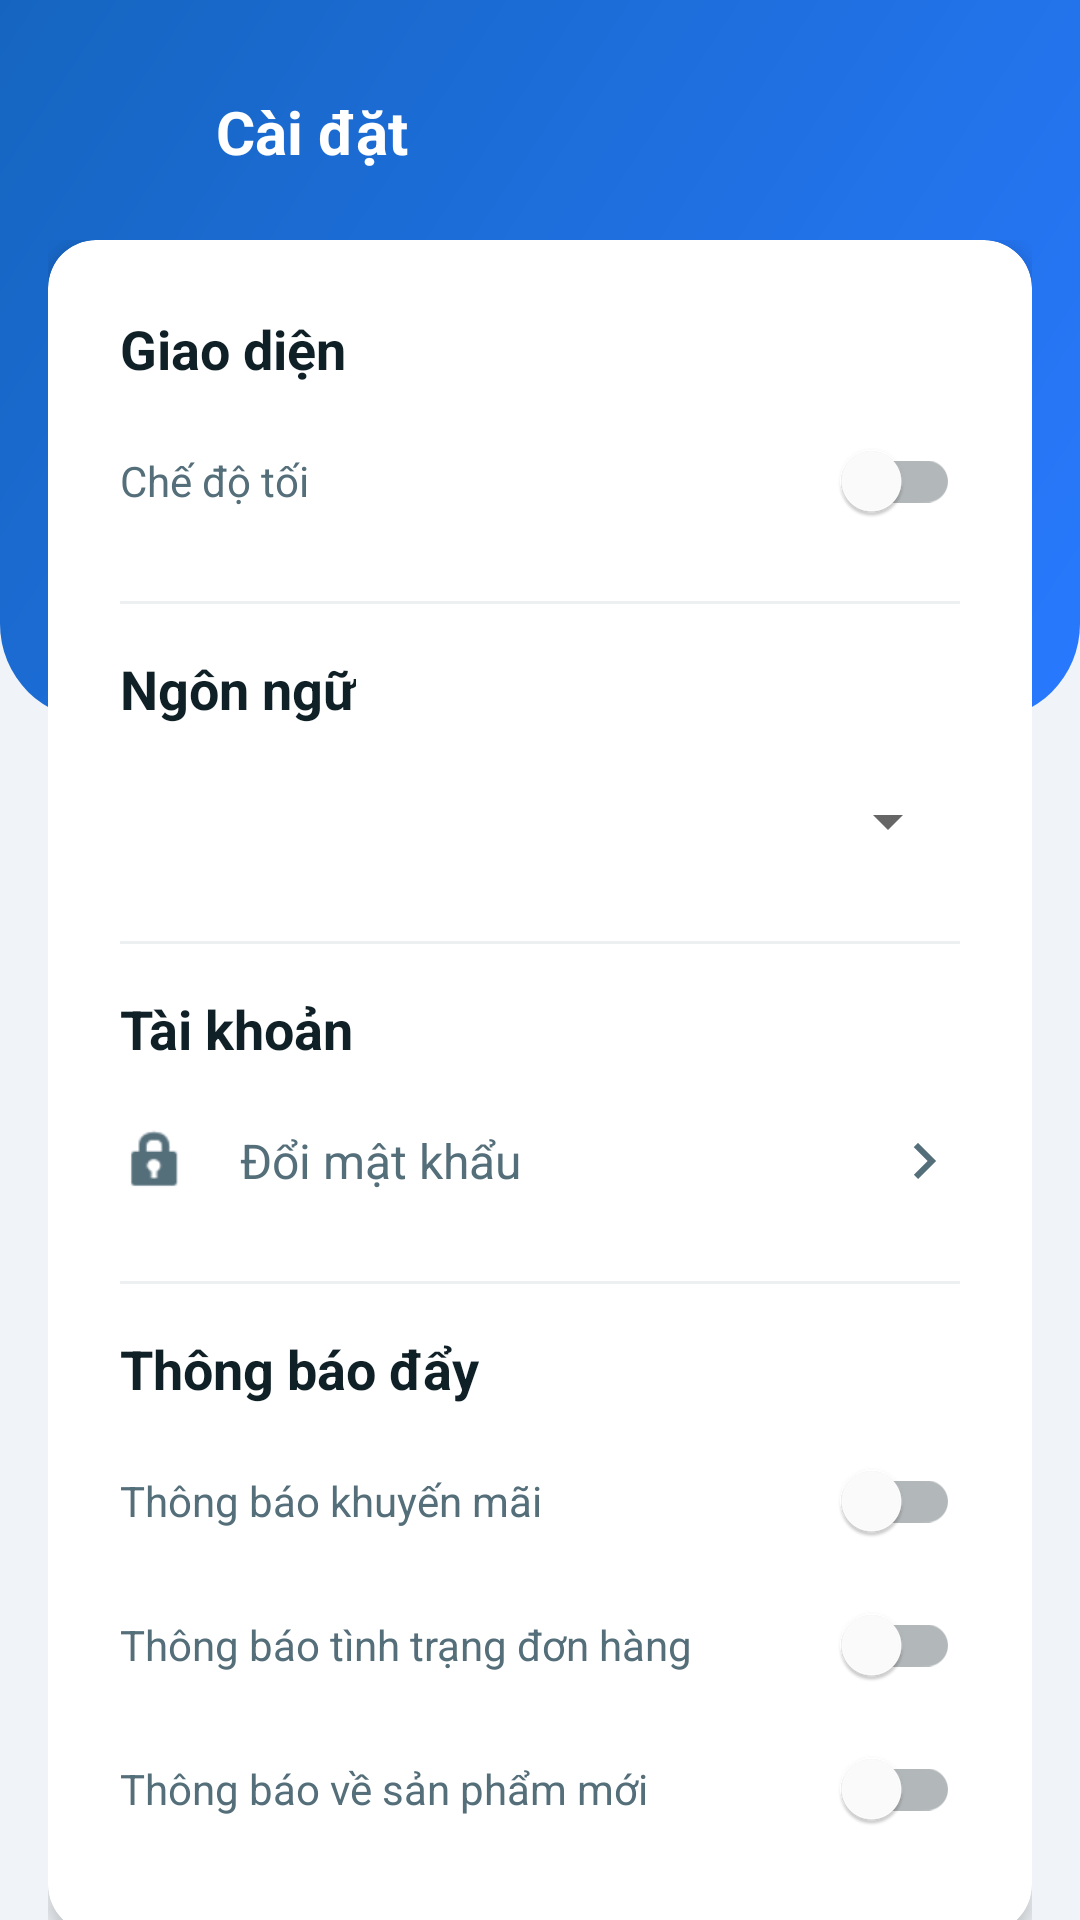

Icon click points for this 1080*1920 phone screenshot, format point (x, y):
arrow right: point (925, 1161)
lock idle: point (154, 1158)
